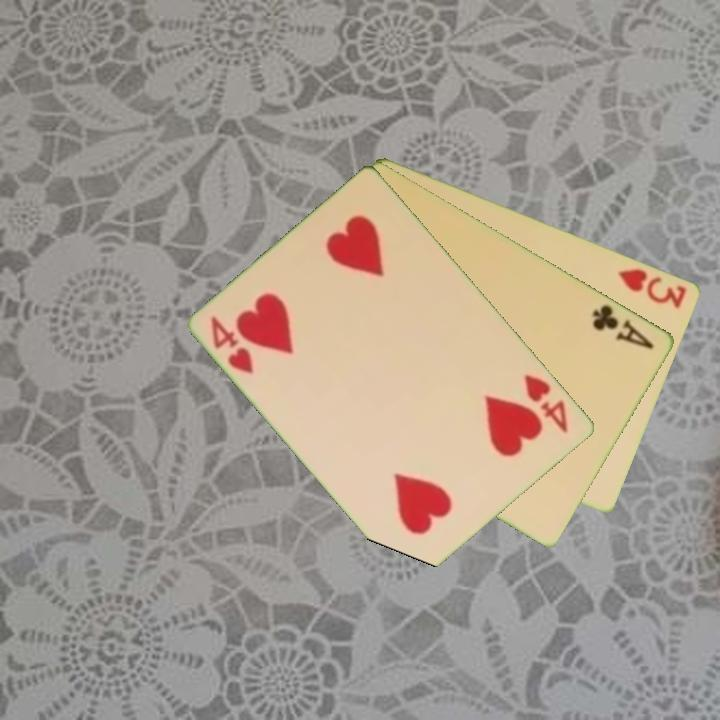3h: (614, 264, 690, 311)
4h: (521, 370, 572, 436), (207, 312, 257, 377)
Ac: (588, 301, 657, 352)
